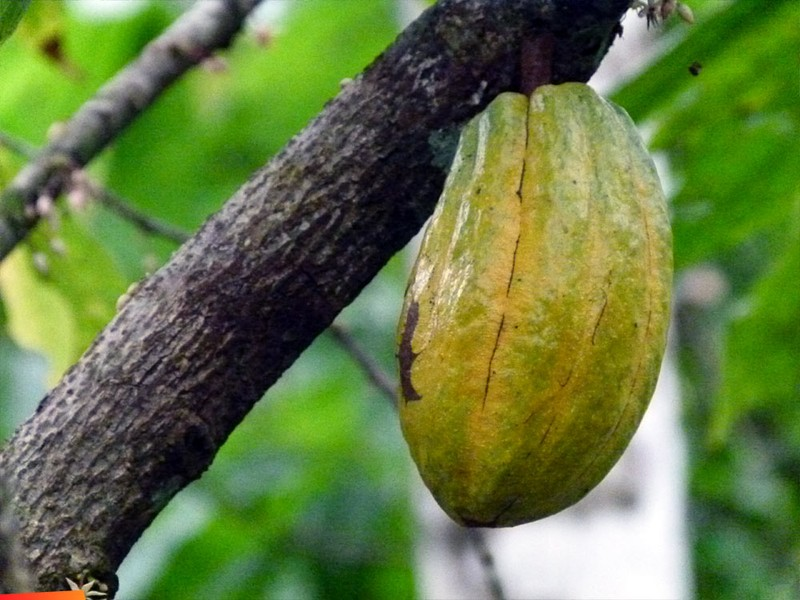Cacaopod: (399, 80, 678, 532)
